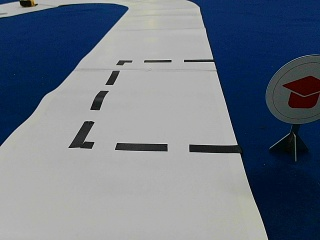school: (266, 55, 319, 123)
